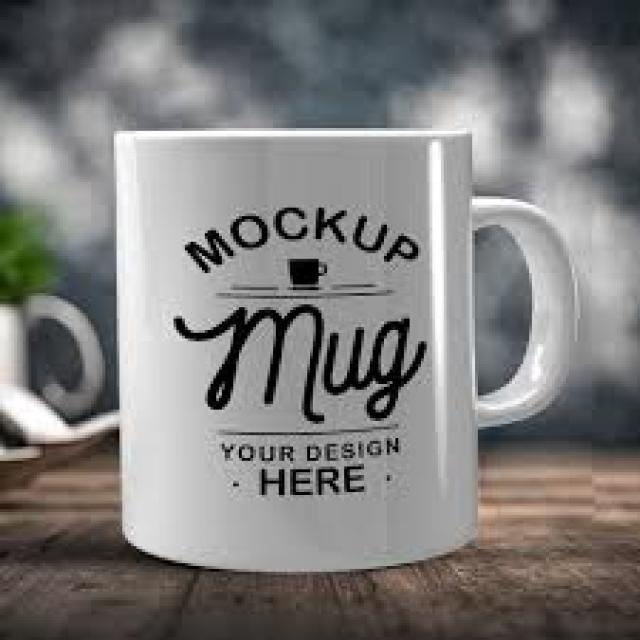taza: (114, 126, 570, 574)
